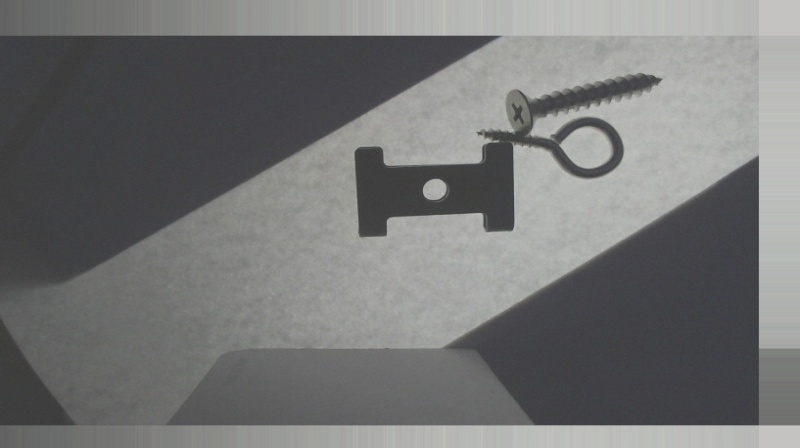O001: (476, 117, 626, 179)
O002: (351, 145, 517, 237)
S001: (505, 71, 664, 133)
